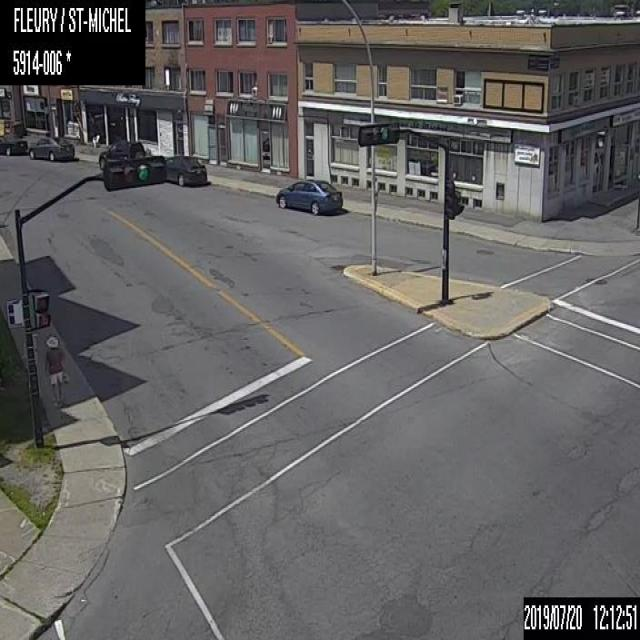pedestrian: (44, 333, 68, 406)
vehicle: (275, 179, 342, 214), (98, 138, 145, 169), (164, 154, 206, 185), (28, 136, 74, 160), (0, 133, 26, 154)
